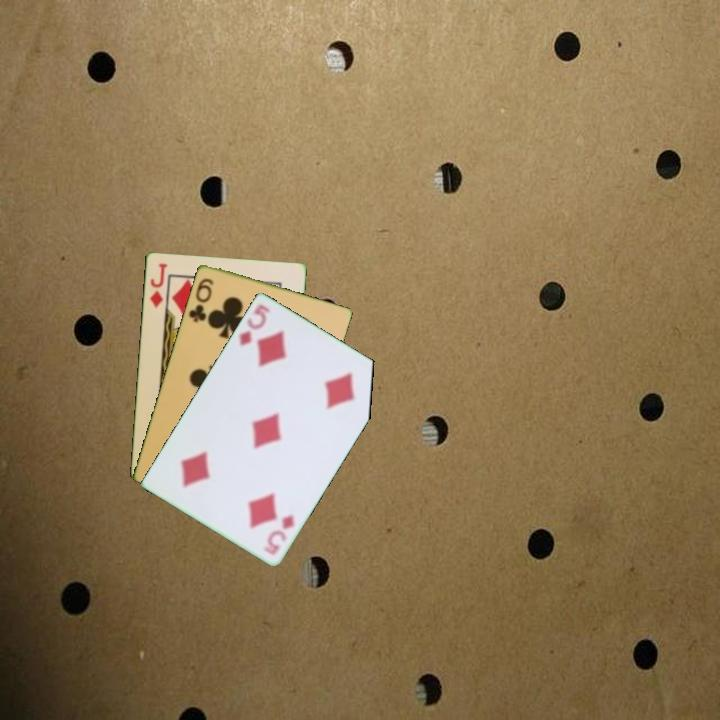5d: (235, 300, 273, 349), (259, 511, 297, 557)
6c: (185, 274, 216, 325)
Jd: (146, 259, 169, 310)
